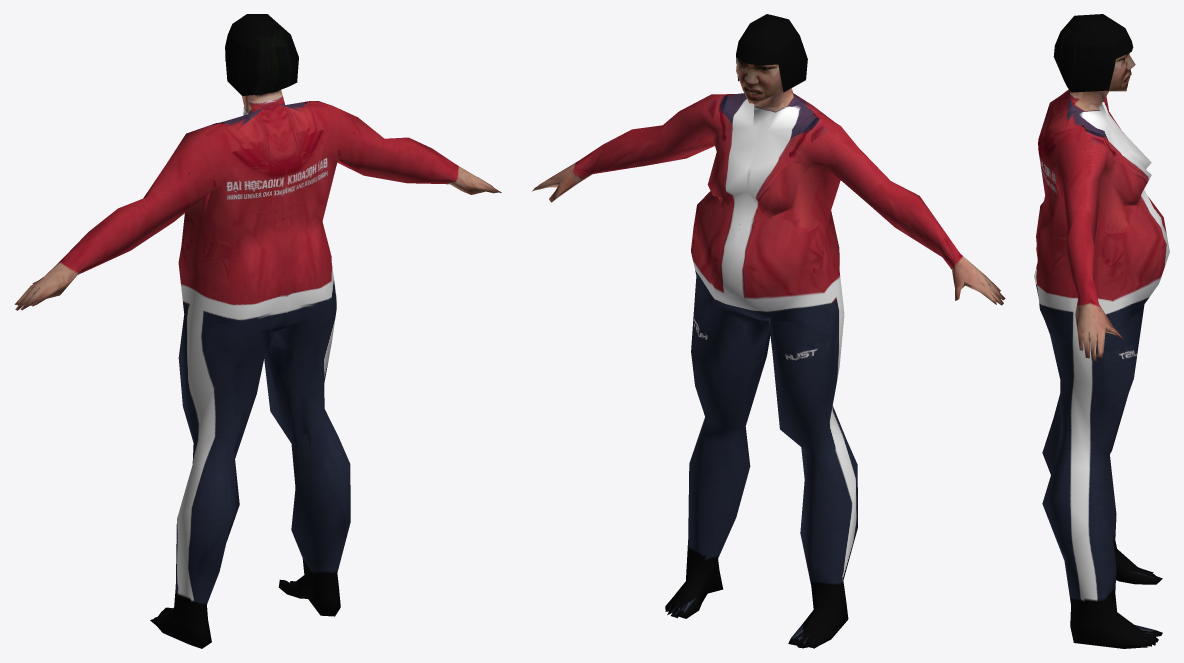
File: fatass.fbx
3 views of the same model, side by side, from view 1: azimuth 30°, elevation 25°; view 2: azimuth 150°, elevation 25°; view 3: azimuth 270°, elevation 25° (orthographic). The views are drawn at different scales.
Parts seen in each view (by area): view 1: female; view 2: female; view 3: female.
Part boxes in pixels (x1,y1,x2,y2): female: (14,14,501,648); female: (532,14,1005,648); female: (1034,14,1169,648).
Bounding box in the file's own units: 178 × 214 × 44.35.
Materials: 1 (1 with a texture image).
